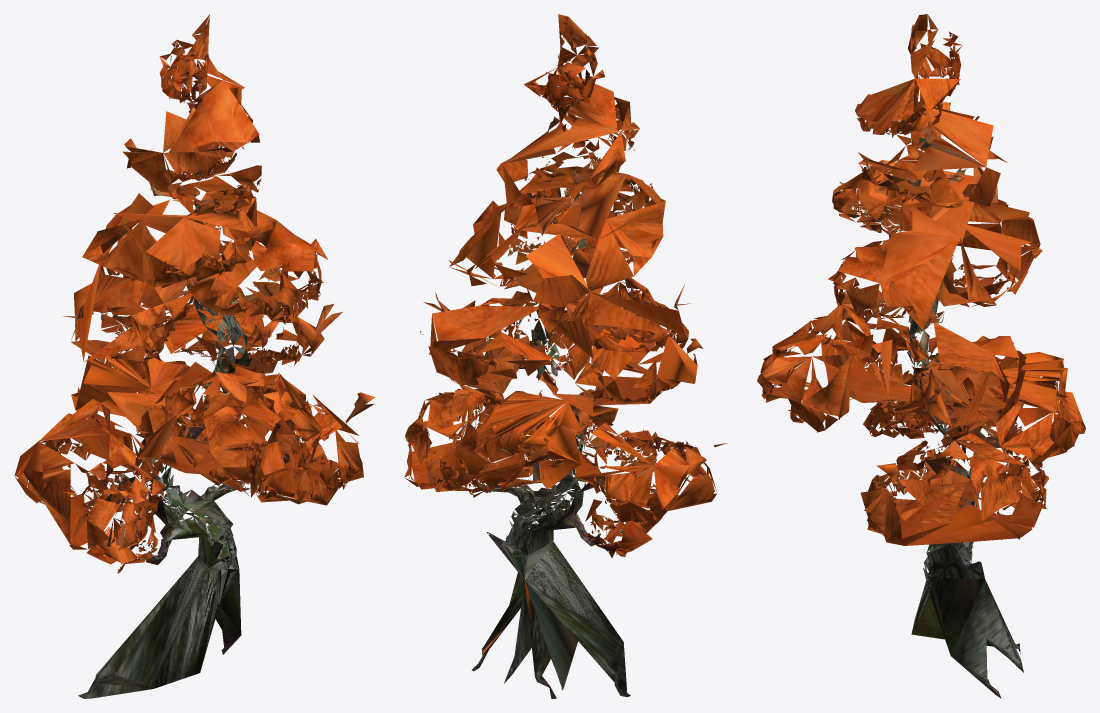
File: Copper_Cloud_Bonsai.glb
The picture shows the model from 3 angles, left to right: view 1: azimuth 30°, elevation 25°; view 2: azimuth 150°, elevation 25°; view 3: azimuth 270°, elevation 25°; orthographic projection. The views are drawn at different scales.
Parts seen in each view (by area): view 1: Copper_Cloud_Bonsai_lite; view 2: Copper_Cloud_Bonsai_lite; view 3: Copper_Cloud_Bonsai_lite.
Part boxes in pixels (x1,y1,x2,y2): Copper_Cloud_Bonsai_lite: (14, 14, 374, 698); Copper_Cloud_Bonsai_lite: (404, 14, 727, 698); Copper_Cloud_Bonsai_lite: (757, 14, 1085, 698).
Size of the model in its own units: 2.61 by 5.44 by 2.46.
1 material, 1 textured.
